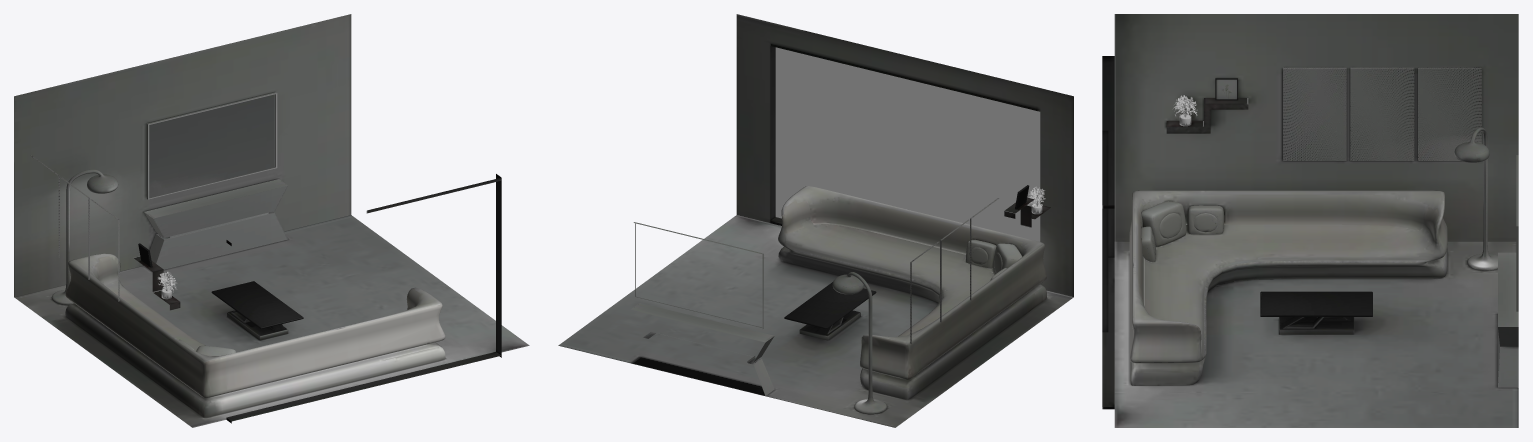
The model's file is salon-blanc.glb.
3 renders of one model, left to right at view 1: azimuth 30°, elevation 25°; view 2: azimuth 150°, elevation 25°; view 3: azimuth 270°, elevation 25°, orthographic. The views are drawn at different scales.
Bounding box in the file's own units: 5.21 × 2.97 × 4.92.
11 materials, 9 textured.
